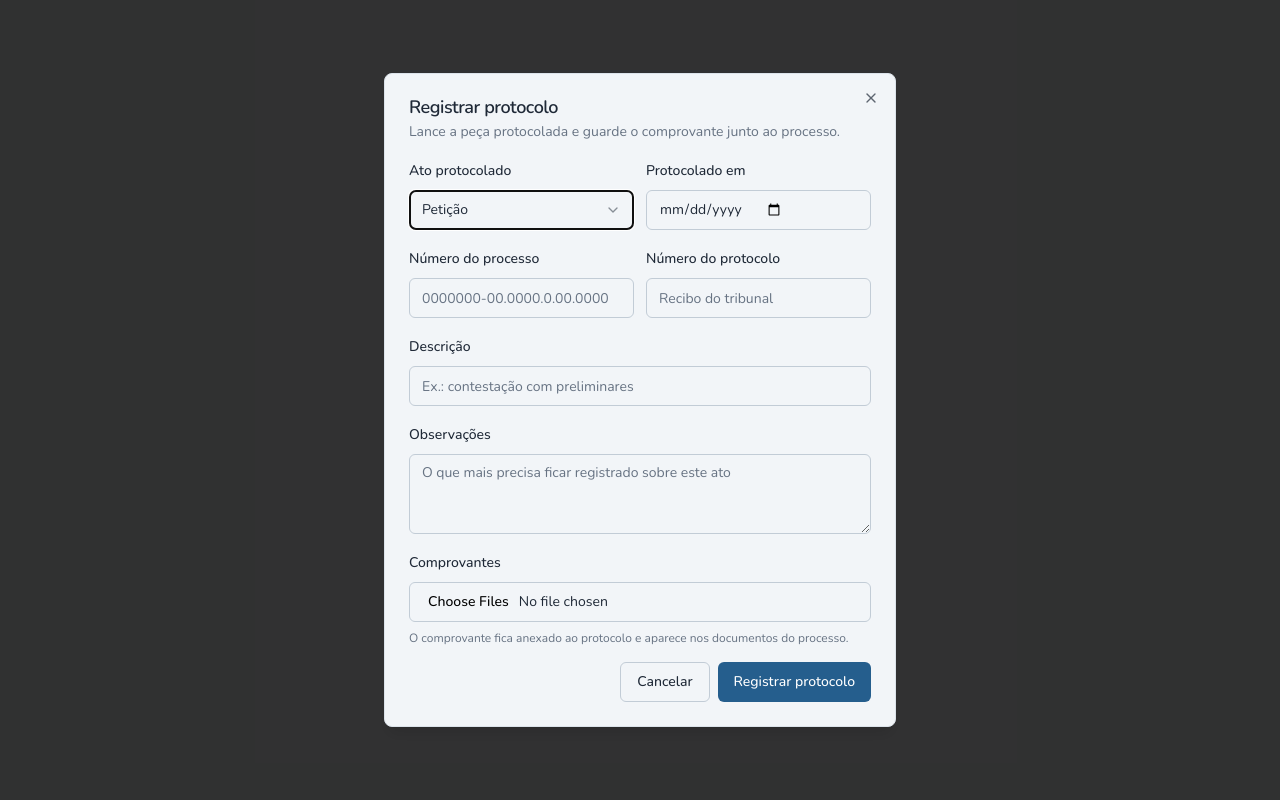
it: ProtocoloDialog › exige o processo ou o número do processo
Earlier steps of the test are not shown.
Type "2026-08-25" into the date field labelled "Protocolado em".
click(758, 210); type("2026-08-25")  # box [646,190,871,230]
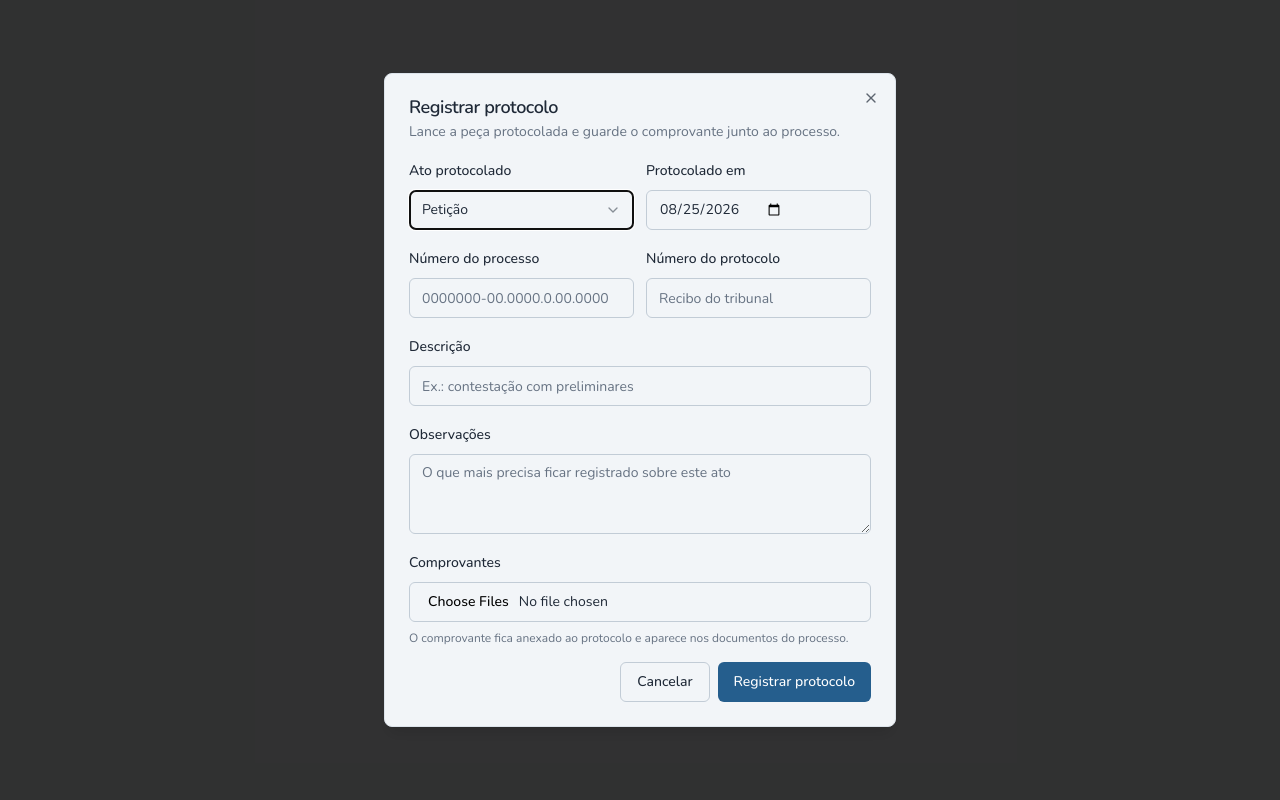
Click the button "Registrar protocolo".
click(794, 682)  # box [718,662,871,702]
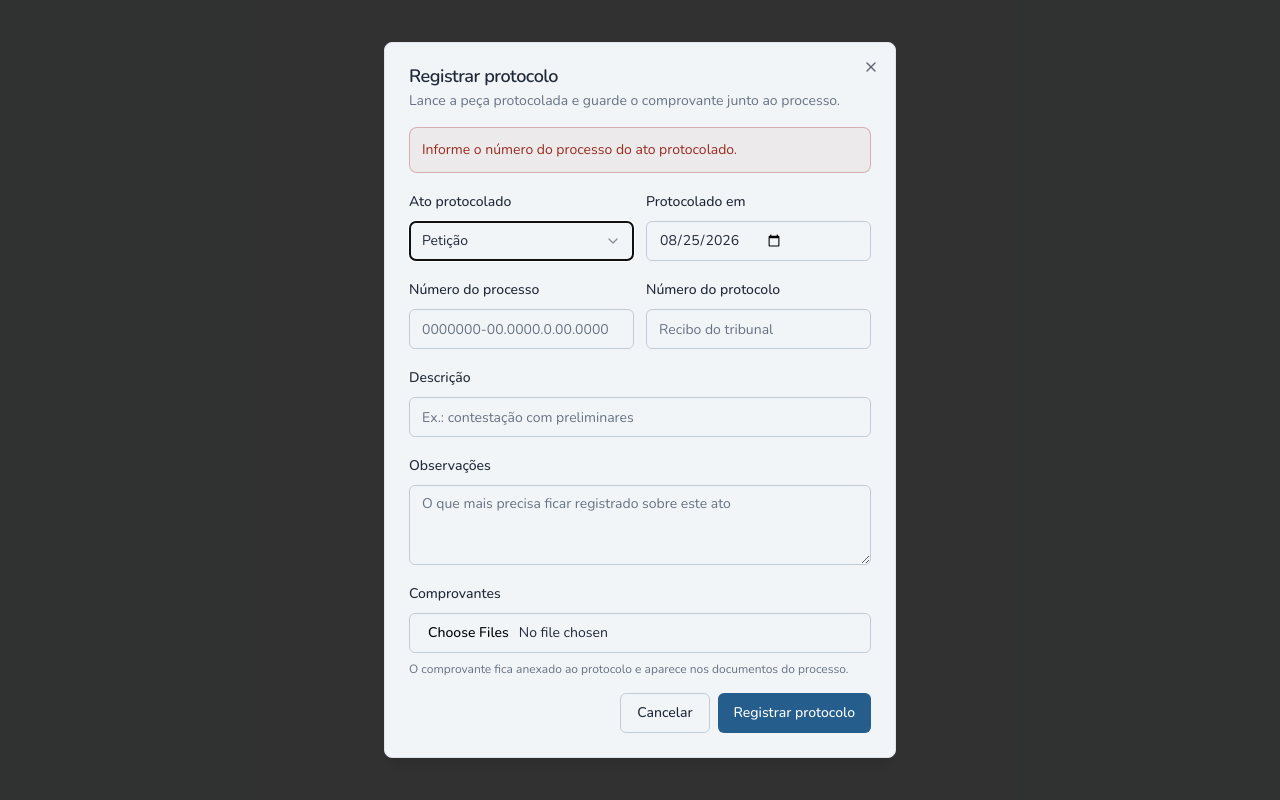
Result: the message shows "número do processo" at [422,140,737,159]
